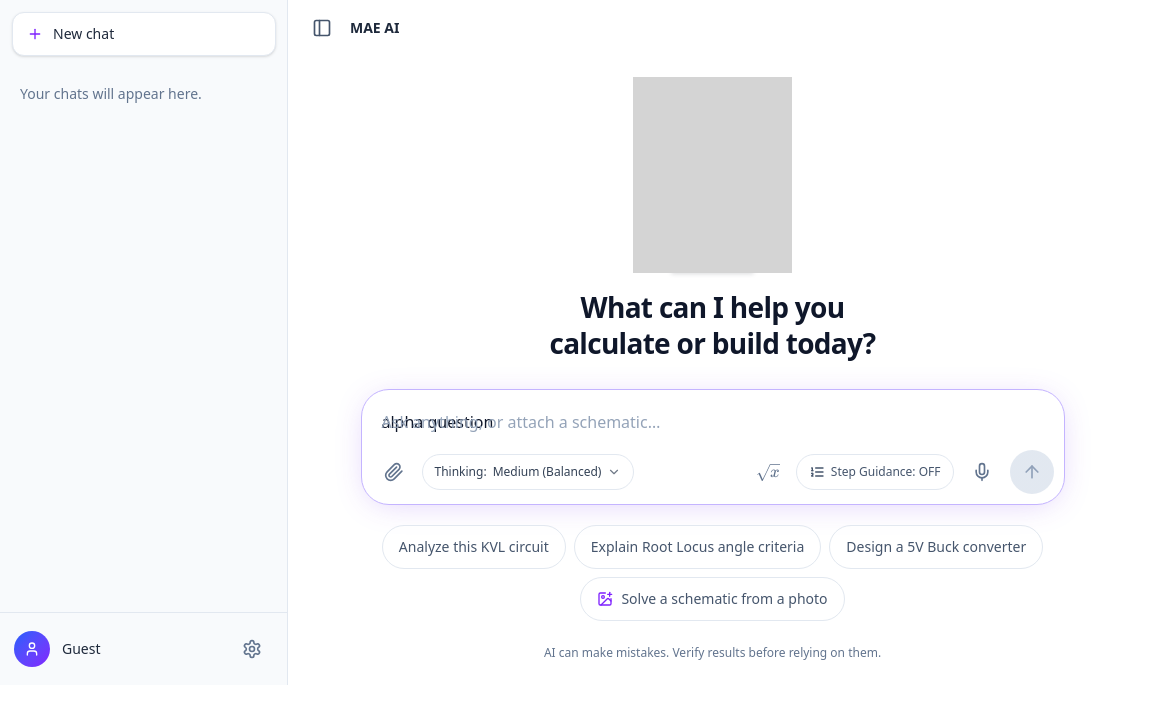
Test: ChatWorkspace › new chat returns to the empty state, and thread switching restores each conversation
Clear the field labelled "alpha question" at (437, 422), box [382, 411, 493, 433]
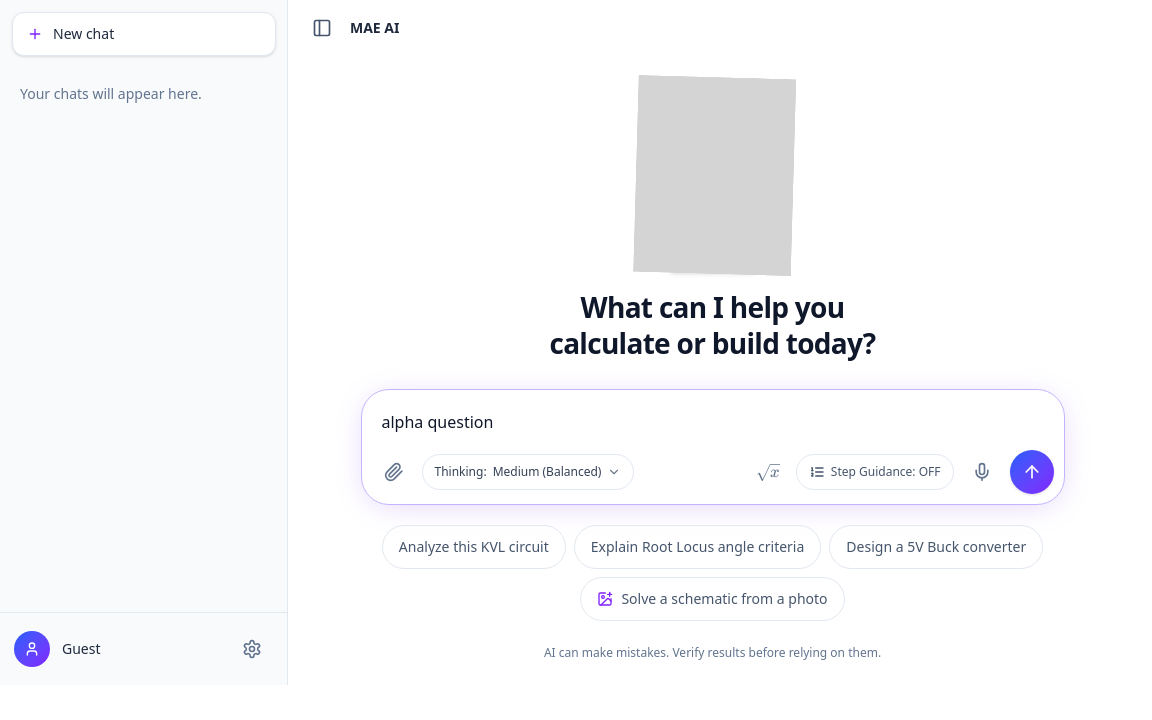
Click the button named "Send" at (1032, 472), box [1010, 450, 1054, 494]
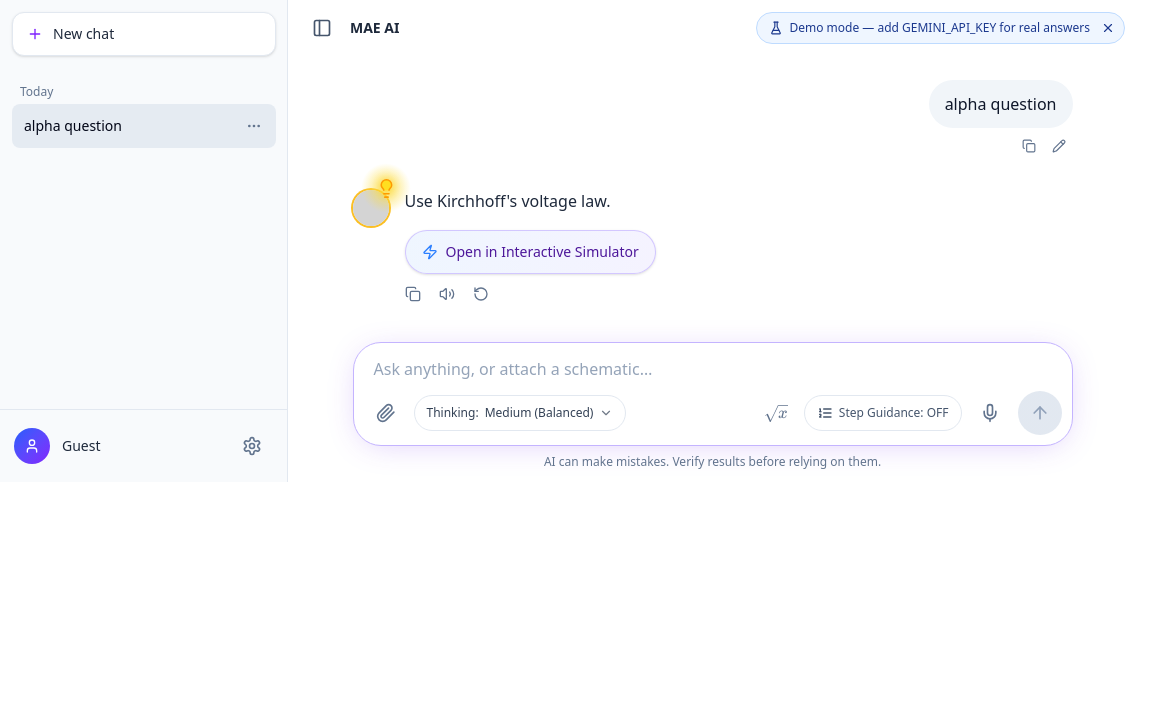
Expected: the link "Open in Interactive Simulator" is shown, [404, 230, 656, 274]
Click the button "New chat" at (84, 34), box [12, 12, 276, 56]
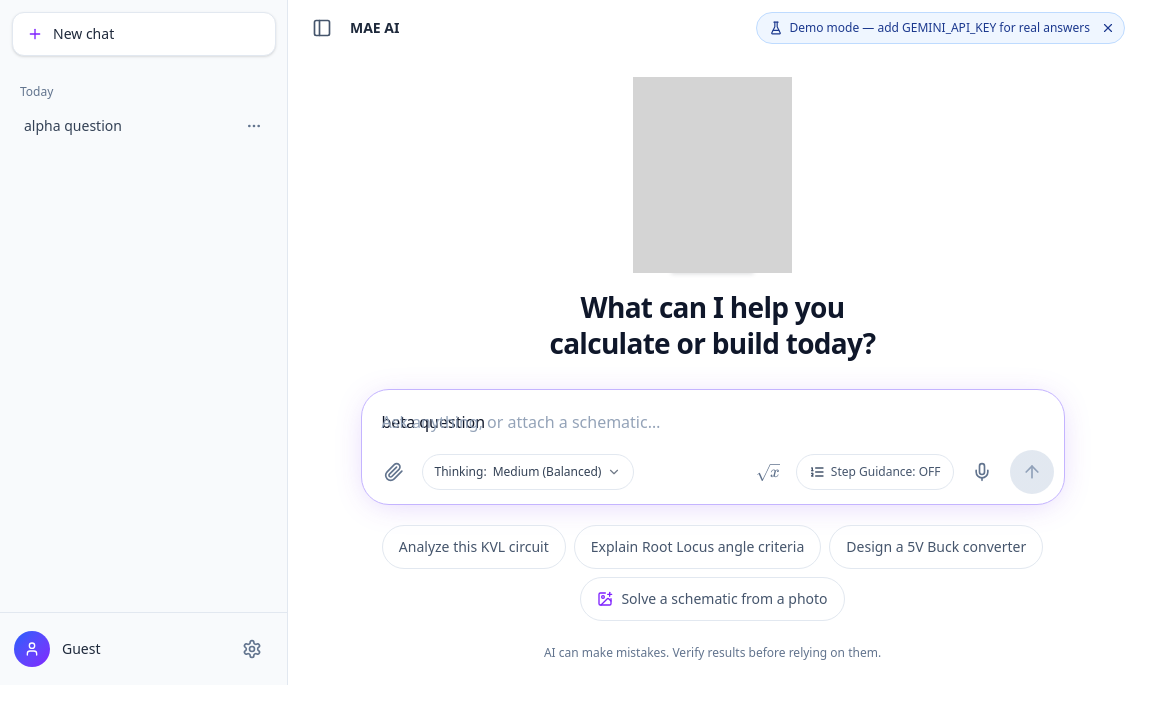
Expected: the heading "What can I help you calculate or build today?" is shown, [550, 288, 876, 362]
Clear the field labelled "beta question" at (433, 422), box [382, 411, 485, 433]
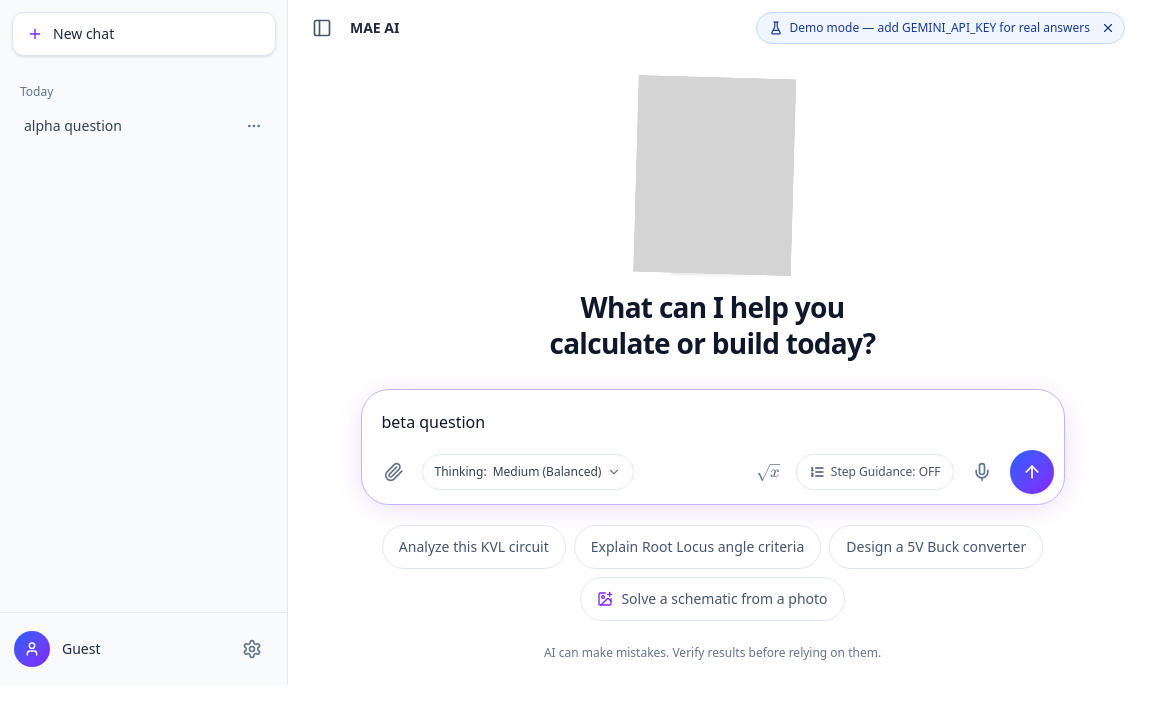
Click the button named "Send" at (1032, 472), box [1010, 450, 1054, 494]
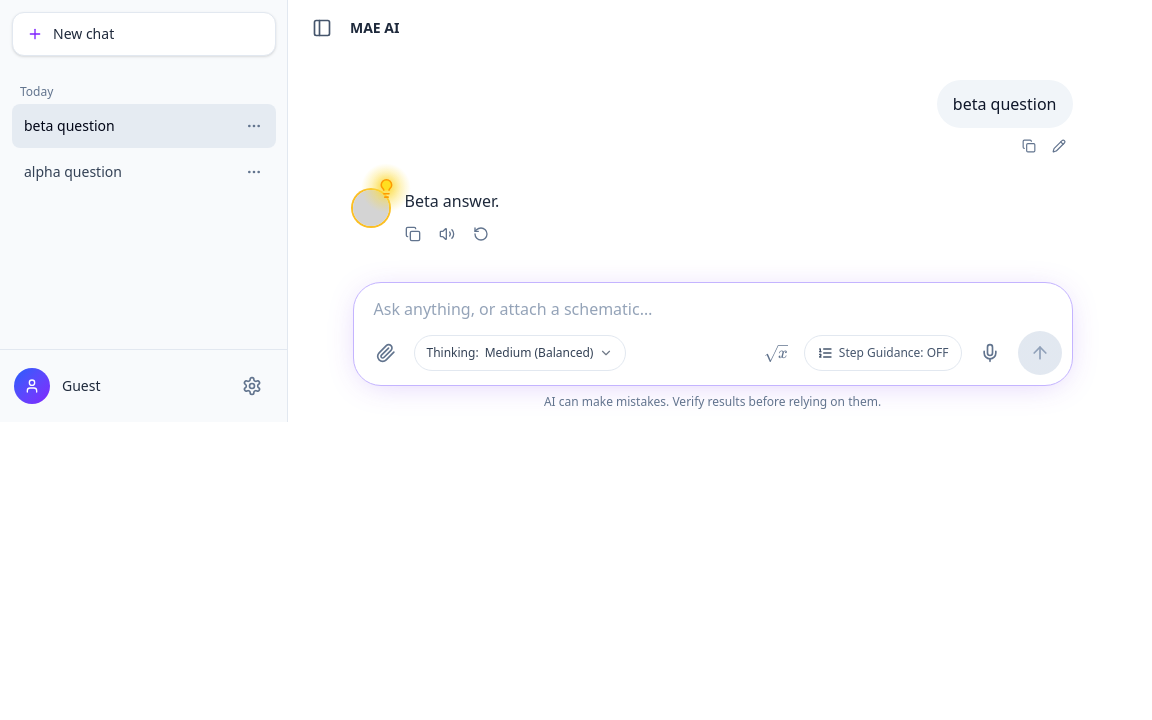
Expected: the text "Use Kirchhoff" is not shown
Expected: the text "Beta answer." is shown, [404, 190, 499, 212]
Expected: the number of list items is 2, [8, 104, 280, 148]; [8, 150, 280, 194]
Click the button "alpha question" at (124, 172), box [12, 150, 236, 194]
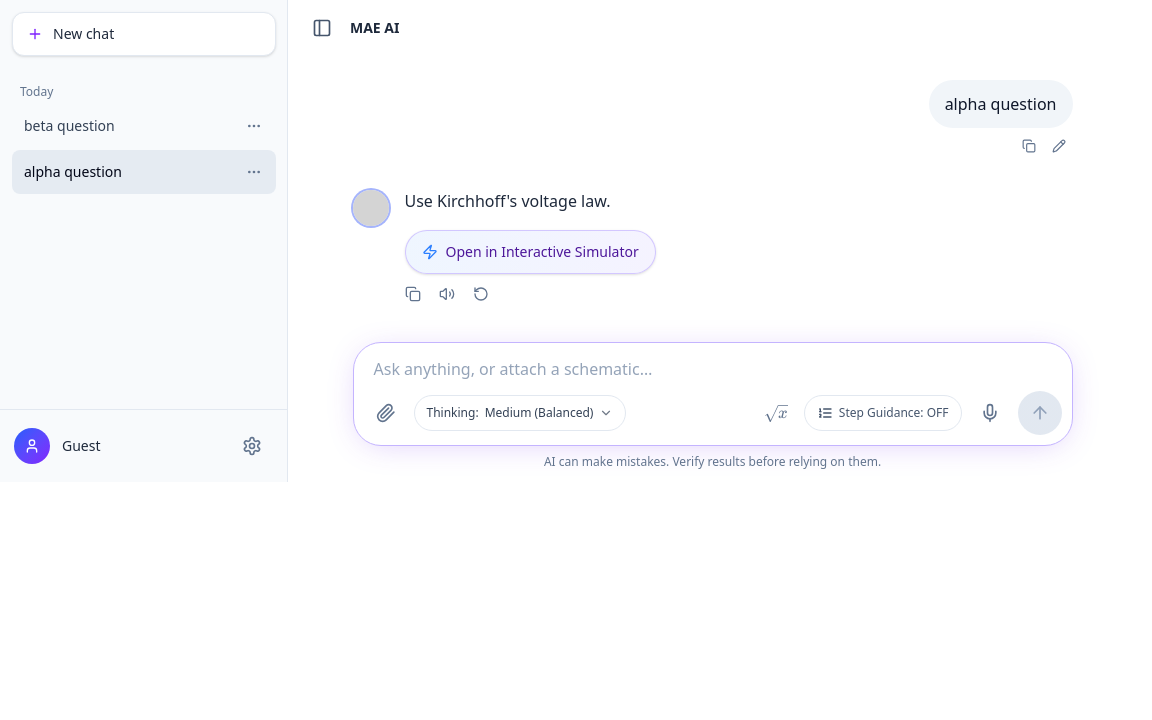
Expected: the text "Use Kirchhoff's voltage law." is shown, [404, 190, 610, 212]
Expected: the text "Beta answer." is gone
